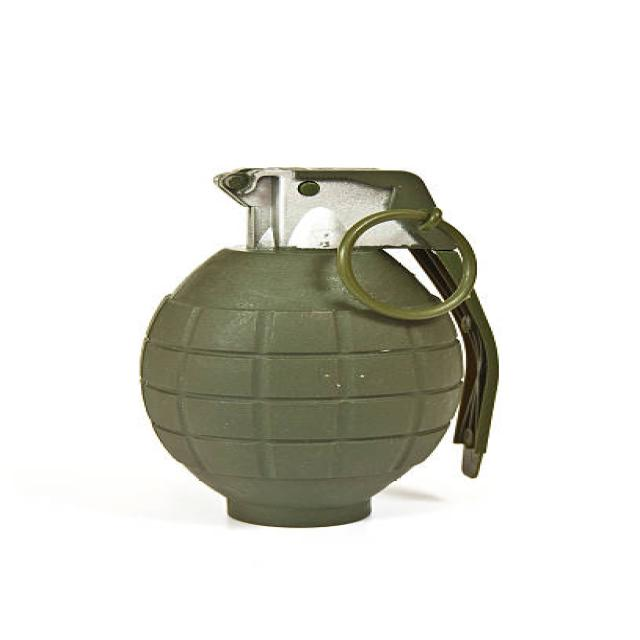grenade: (127, 159, 509, 531)
